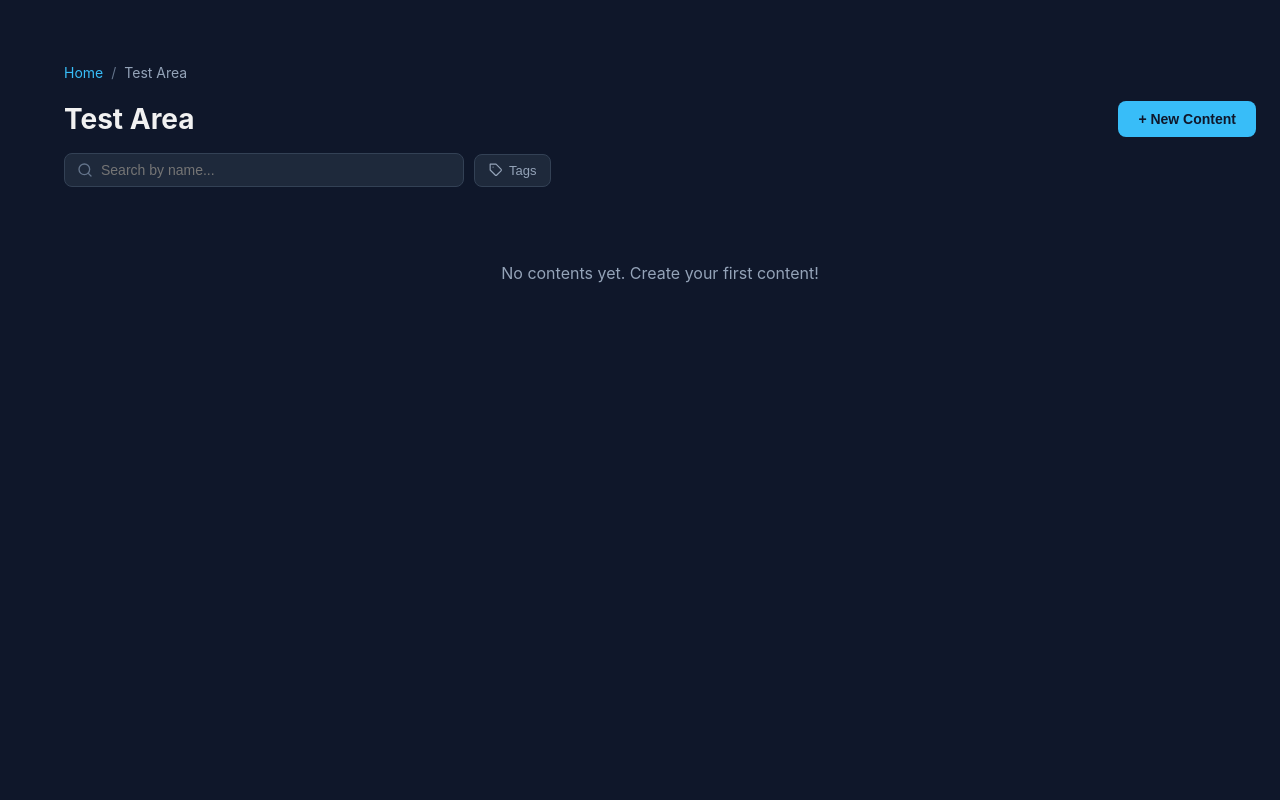
Test: AreaPage › Create Content Modal › should show error when trying to create content without name
The image size is (1280, 800).
What coordinates should you click on to do the following:
click the button "+ New Content"
I would click on:
 (1187, 119)
Its box is [1118,101,1256,137].
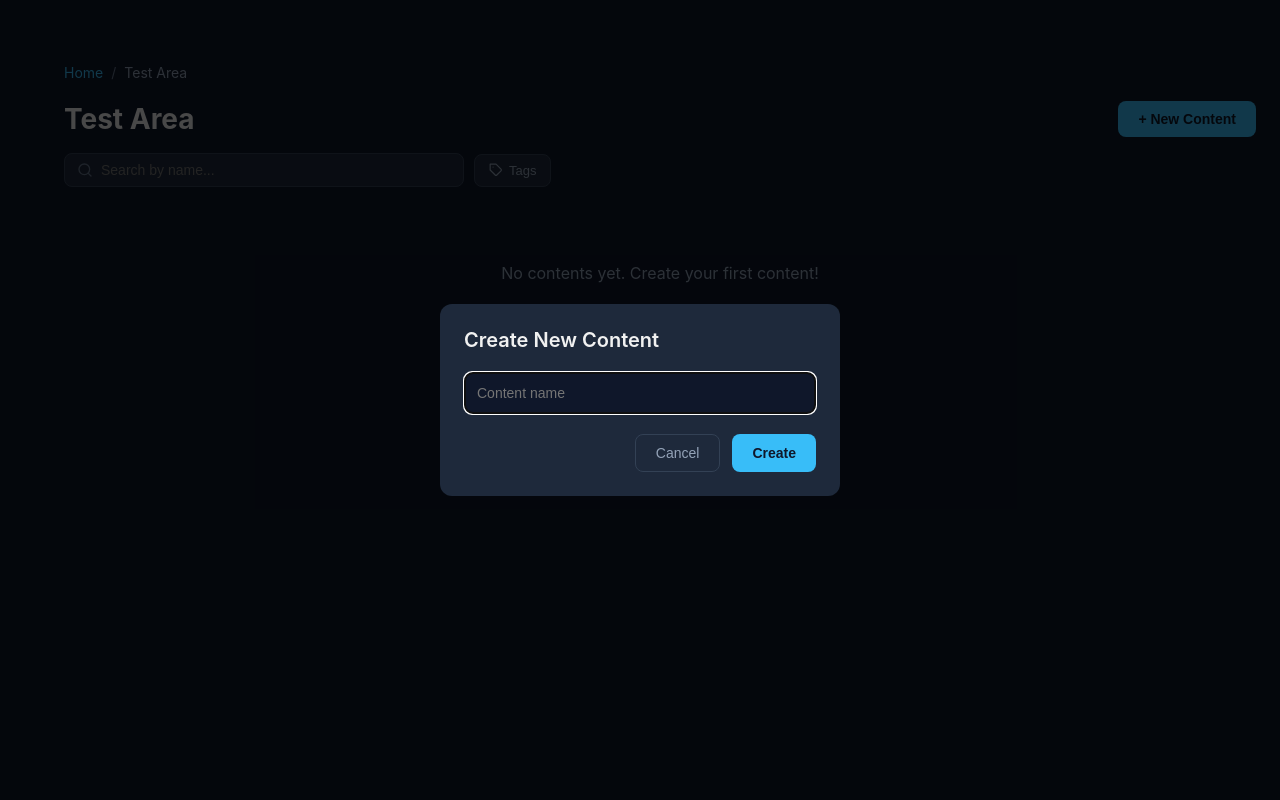
What coordinates should you click on to do the following:
click the button "Create"
I would click on:
 (774, 453)
Its box is [732,434,816,472].
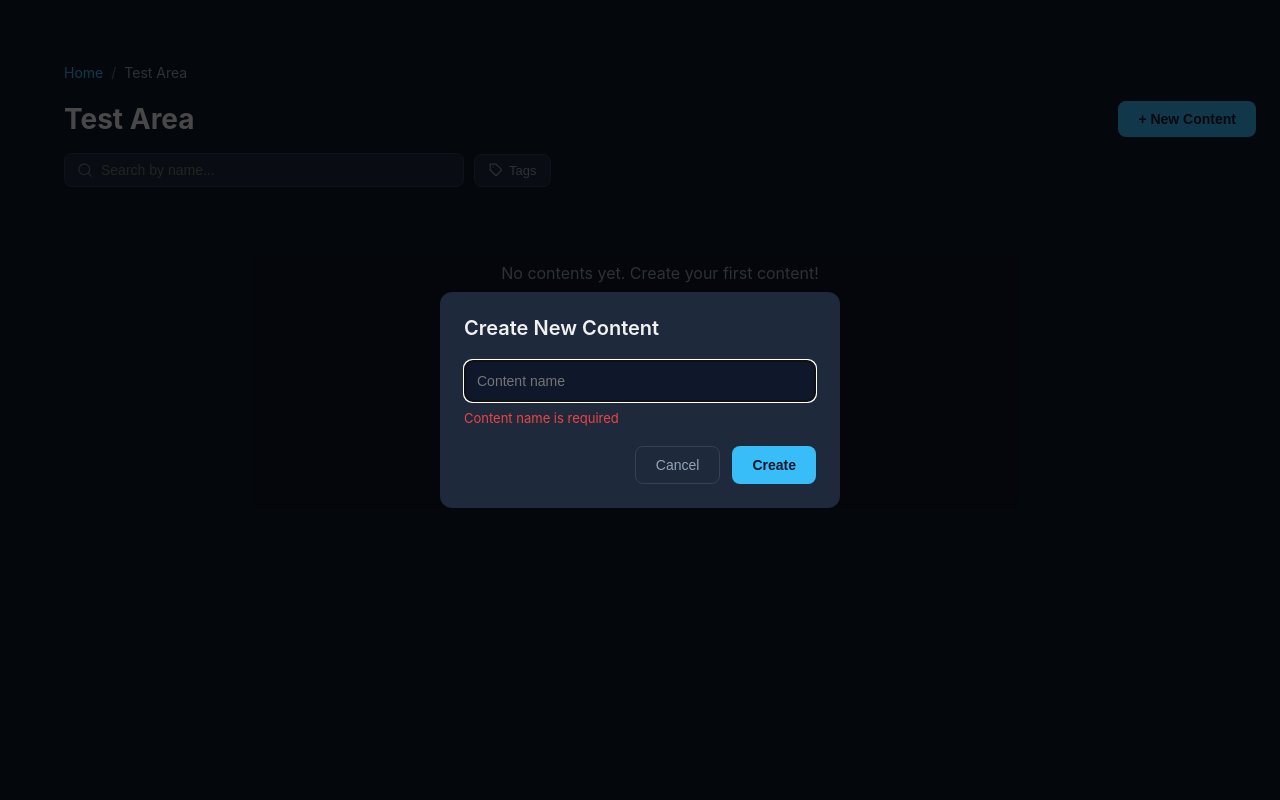
Check: the text "Content name is required" is shown, box [464,410,619,426]
